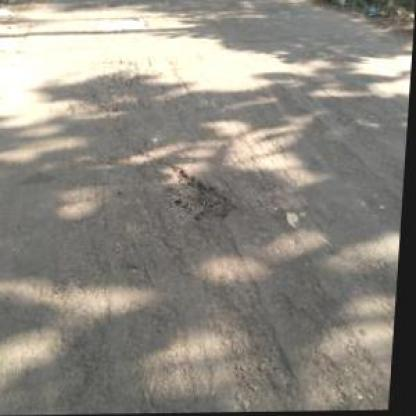pothole: (162, 165, 244, 229)
